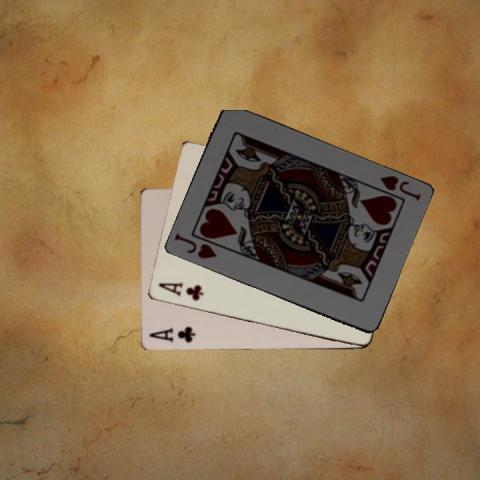Ac: (154, 280, 204, 303), (146, 324, 197, 344)
Jh: (171, 230, 218, 261), (376, 172, 422, 202)
